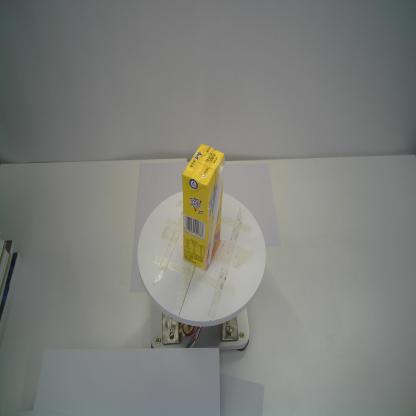Drink: (182, 144, 225, 272)
